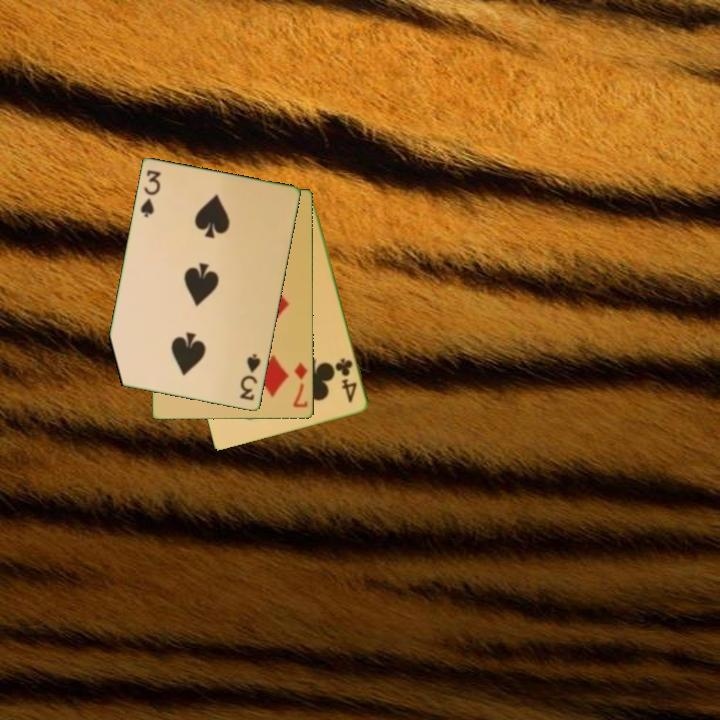3s: (236, 350, 264, 404), (137, 167, 164, 221)
4c: (332, 354, 360, 406)
7d: (290, 359, 311, 411)
